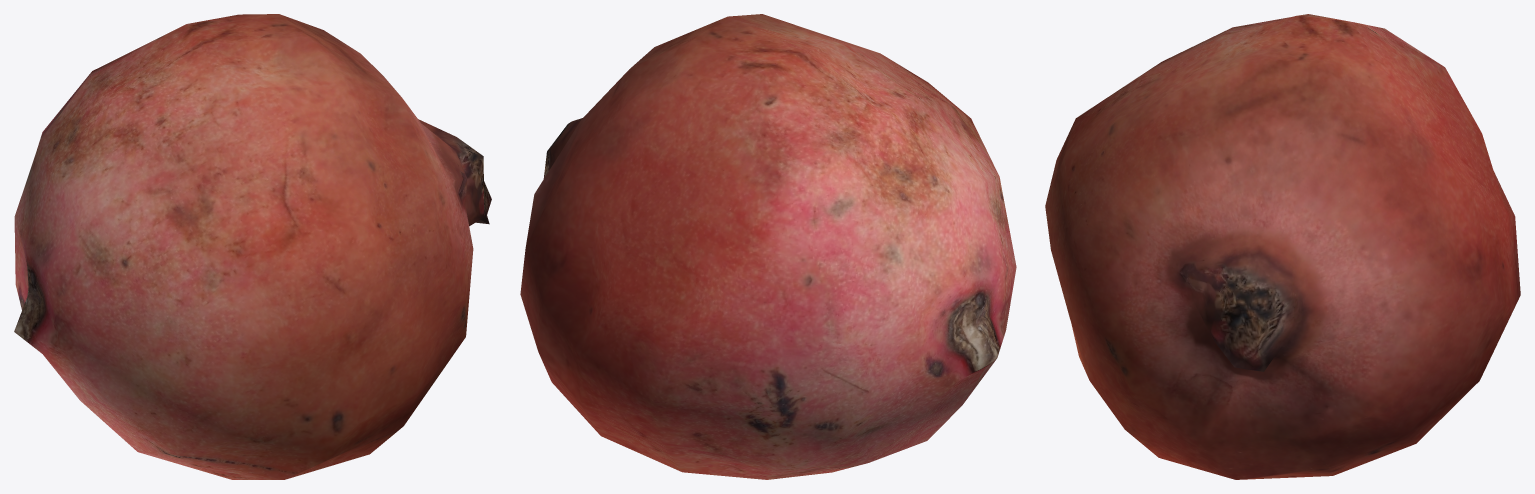
The model's file is A106_Pomegranite_low.fbx.
The picture shows the model from 3 angles, left to right: view 1: azimuth 30°, elevation 25°; view 2: azimuth 150°, elevation 25°; view 3: azimuth 270°, elevation 25°; orthographic projection. The views are drawn at different scales.
Parts seen in each view (by area): view 1: A106_Pomegranite_low; view 2: A106_Pomegranite_low; view 3: A106_Pomegranite_low.
Boxes of the visible parts, x1,y1,x2,y2 form: A106_Pomegranite_low: (14, 14, 491, 479); A106_Pomegranite_low: (520, 14, 1016, 479); A106_Pomegranite_low: (1045, 14, 1520, 479).
Bounding box in the file's own units: 5.74 × 5.1 × 4.87.
1 material, 1 textured.
